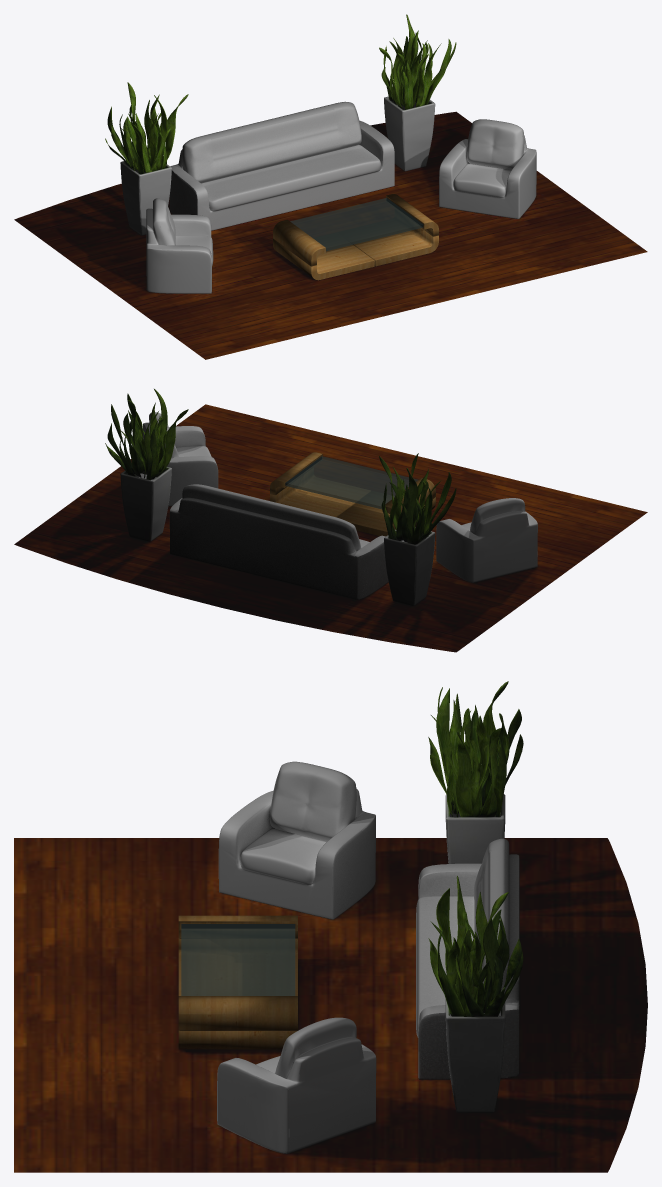
The model's file is noCol.obj.
3 renders of one model, top to bottom at view 1: azimuth 30°, elevation 25°; view 2: azimuth 150°, elevation 25°; view 3: azimuth 270°, elevation 25°, orthographic. The views are drawn at different scales.
Visible parts, largest first — view 1: stageCenter_Cube.009, soft_reception.006, soft_reception.001, table_tableMesh, soft_reception, table.001_tableMesh.001, (null).001, (null).003_(null).004, (null).002, (null); view 2: stageCenter_Cube.009, soft_reception.006, soft_reception, table_tableMesh, (null).003_(null).004, table.001_tableMesh.001, (null).001, (null).002, (null), soft_reception.001; view 3: stageCenter_Cube.009, soft_reception, soft_reception.001, table_tableMesh, soft_reception.006, table.001_tableMesh.001, (null).001, (null).003_(null).004, (null).002, (null).
Part boxes in pixels (x1,y1,x2,y2): stageCenter_Cube.009: (14, 111, 647, 359); soft_reception.006: (170, 101, 394, 230); soft_reception.001: (439, 119, 536, 218); table_tableMesh: (273, 194, 438, 280); soft_reception: (146, 198, 213, 293); table.001_tableMesh.001: (290, 198, 423, 251); (null).001: (105, 82, 188, 174); (null).003_(null).004: (379, 14, 456, 109); (null).002: (384, 96, 435, 171); (null): (120, 161, 171, 235); stageCenter_Cube.009: (14, 404, 647, 652); soft_reception.006: (169, 484, 388, 599); soft_reception: (436, 498, 537, 582); table_tableMesh: (270, 452, 435, 536); (null).003_(null).004: (105, 389, 188, 480); table.001_tableMesh.001: (285, 456, 418, 509); (null).001: (379, 453, 456, 544); (null).002: (120, 467, 171, 541); (null): (384, 527, 435, 605); soft_reception.001: (143, 412, 218, 505); stageCenter_Cube.009: (14, 838, 647, 1172); soft_reception: (218, 761, 375, 919); soft_reception.001: (217, 1017, 376, 1153); table_tableMesh: (178, 915, 297, 1049); soft_reception.006: (416, 838, 519, 1079); table.001_tableMesh.001: (181, 924, 295, 995); (null).001: (428, 681, 523, 817); (null).003_(null).004: (428, 876, 523, 1016); (null).002: (445, 999, 505, 1112); (null): (445, 794, 505, 863).
Size of the model in its own units: 6 by 1.83 by 4.8.
9 materials, 7 textured.
